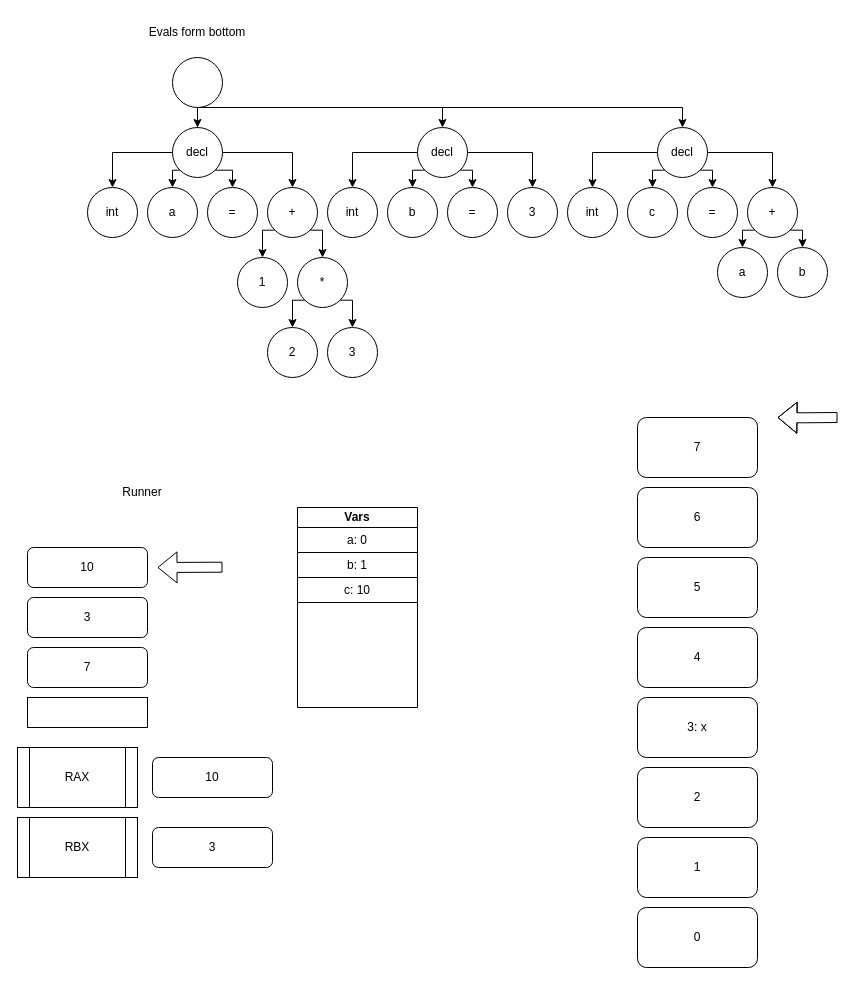
This 855x985 diagram has some shape labels left out. The shapes that lost their labels are listed below. From the top down, each one's centre as x and y in pixels, then its label:
(x=197, y=82): Prog
(x=87, y=712): Stack base
